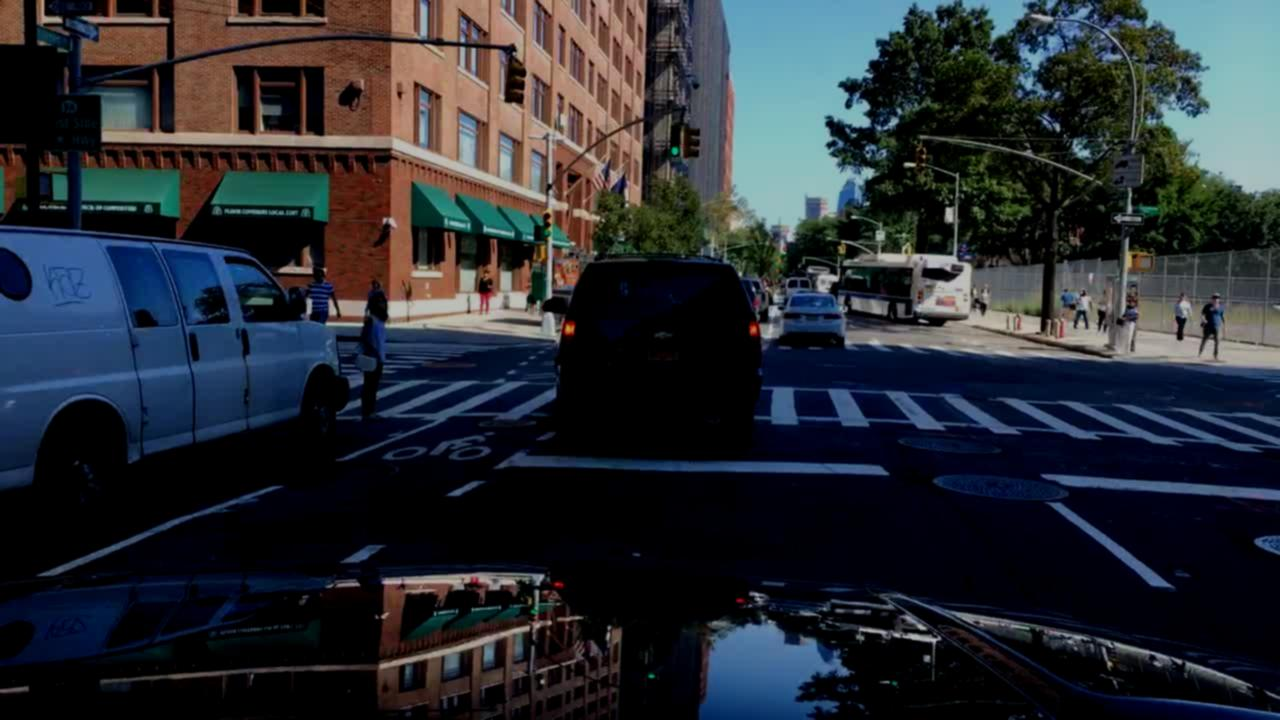chevrolet: (646, 327, 679, 345)
